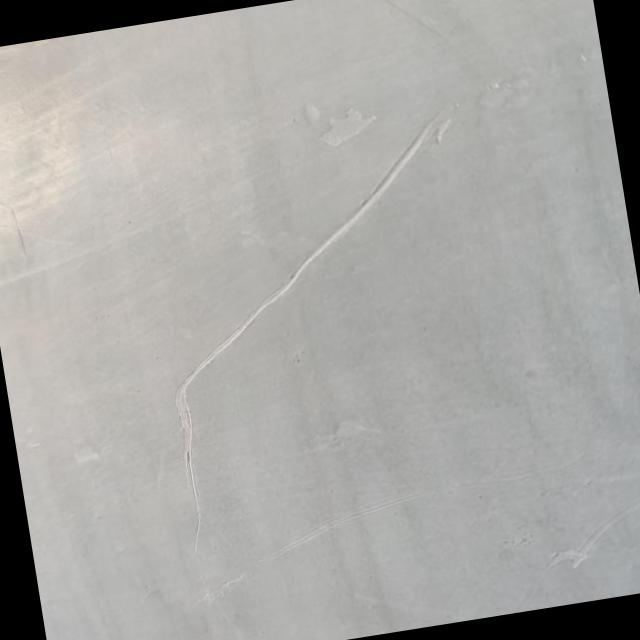Scratch: (165, 105, 460, 564), (540, 489, 640, 577)
